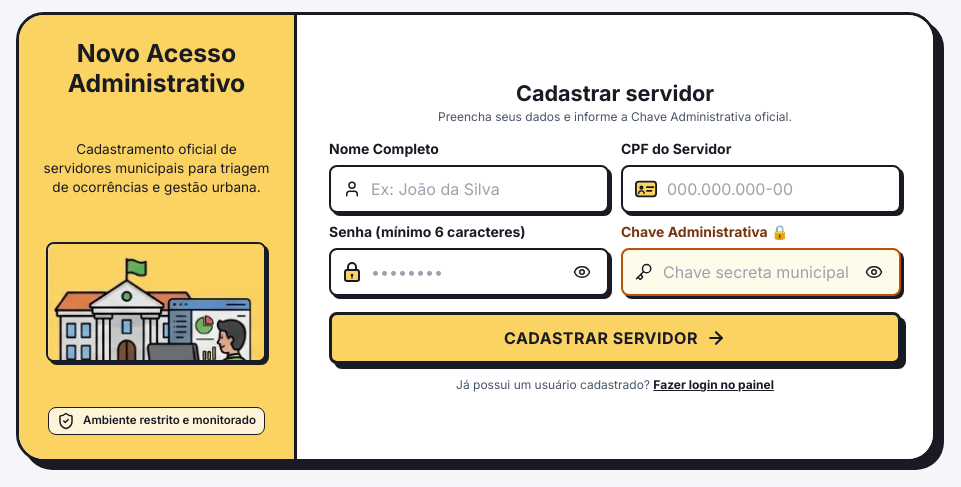
Test: Página CadastroPrefeitura (/cadastro/prefeitura) › deve exibir erro caso a API recuse a Chave Administrativa
Type "Mariana Costa" into the field labelled "Nome Completo".
click(488, 190); type("Mariana Costa")  # box [371,168,605,212]
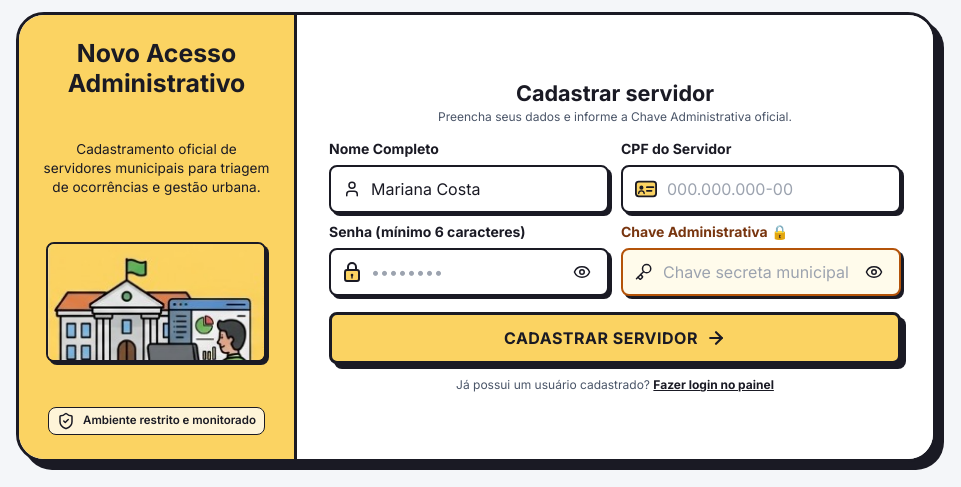
Type "98765432100" into the field labelled "CPF do Servidor".
click(784, 190); type("98765432100")  # box [667,168,901,212]
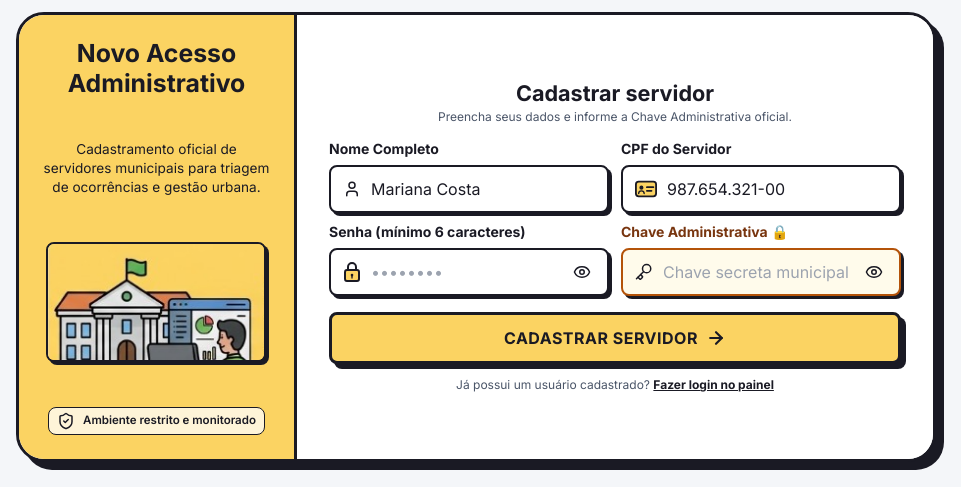
Type "minhaSenha123" into the password field labelled "Senha (mínimo 6 caracteres)".
click(470, 272); type("minhaSenha123")  # box [371,250,569,294]
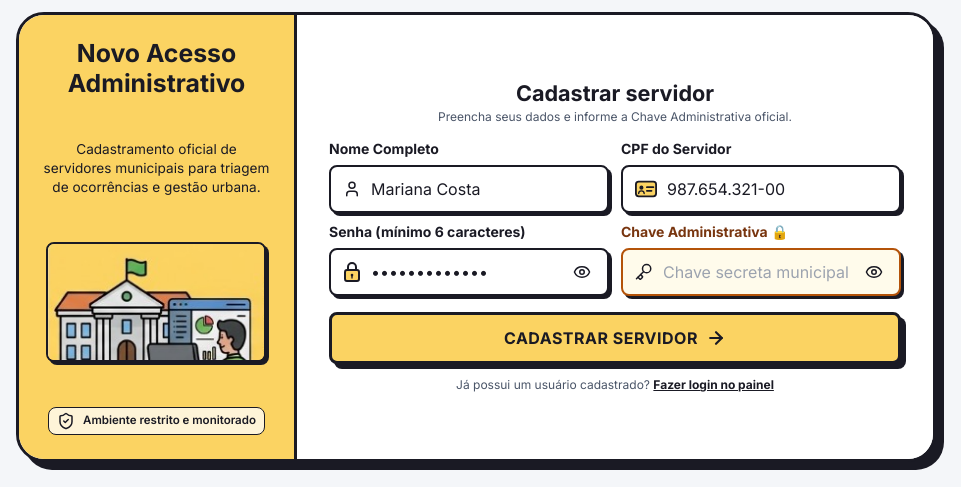
Type "CHAVE_ERRADA" into the password field labelled "Chave Administrativa 🔒".
click(762, 272); type("CHAVE_ERRADA")  # box [663,250,861,294]
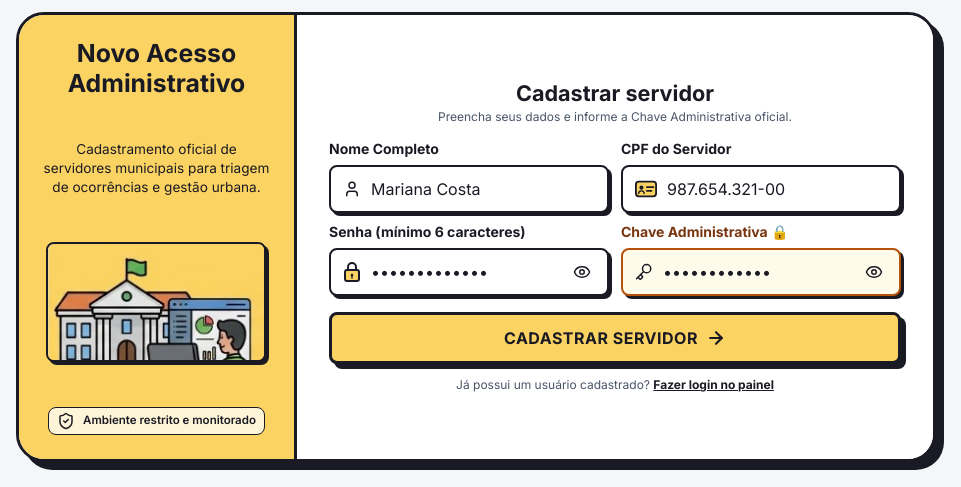
Click the button with aria-label "Concluir cadastro de servidor público".
click(615, 338)  # box [329,312,901,364]
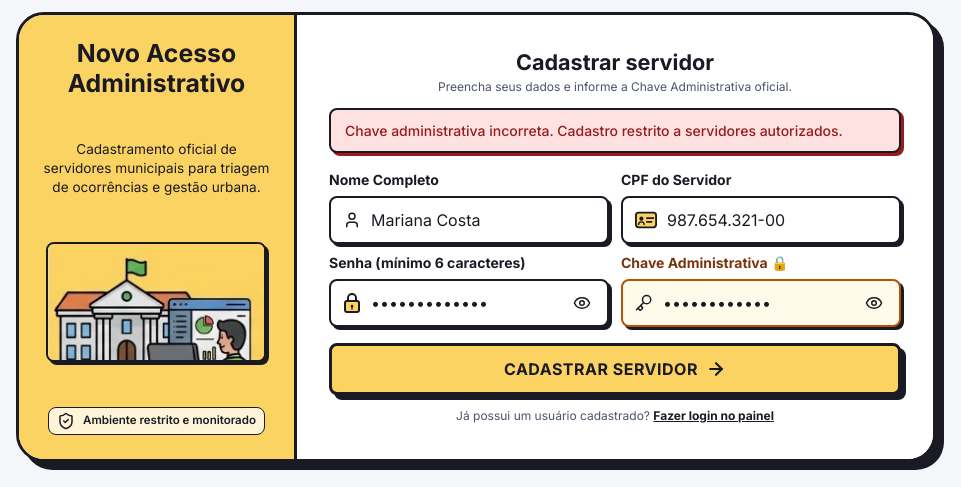
Check: the text "Chave administrativa incorreta. Cadastro restrito a servidores autorizados." is shown, box [329,108,901,153]
